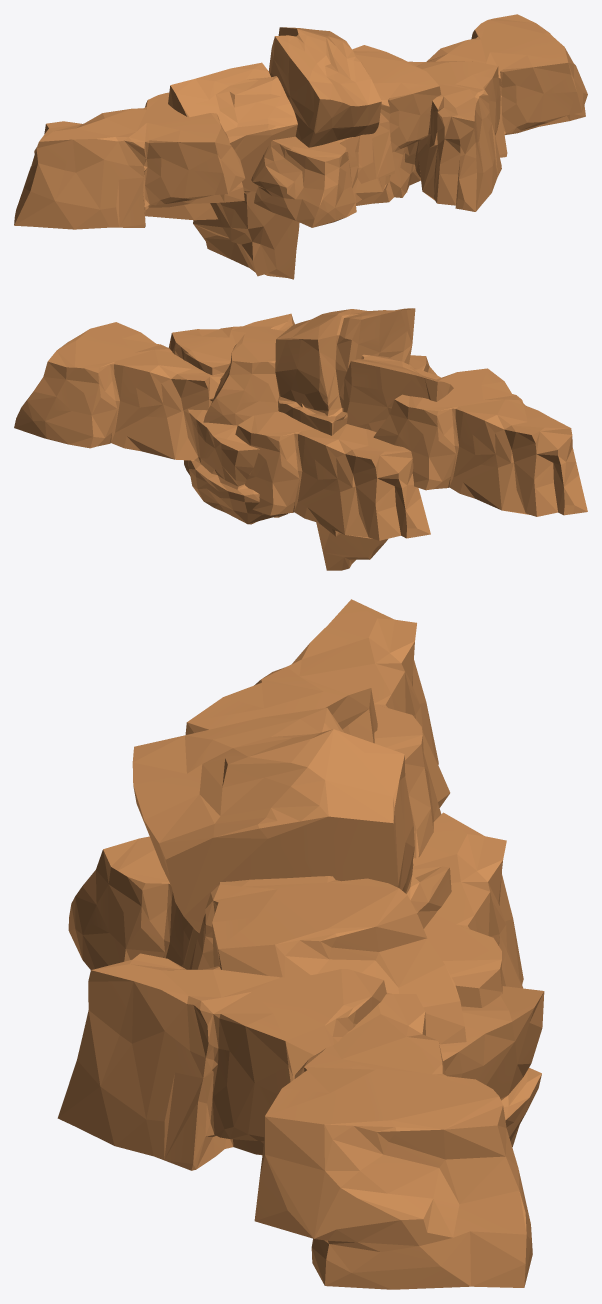
Rendered from enviornmentSet04.fbx.
3 renders of one model, top to bottom at view 1: azimuth 30°, elevation 25°; view 2: azimuth 150°, elevation 25°; view 3: azimuth 270°, elevation 25°, orthographic. The views are drawn at different scales.
Visible parts, largest first — view 1: rock1 (17), rock1 (16), rock1 (11), rock1 (9), rock1 (12), rock1 (15), rock1 (14), rock0, rock1 (13); view 2: rock1 (17), rock1 (9), rock1 (13), rock1 (12), rock1 (16), rock0, rock1 (14), rock1 (11); view 3: rock1 (9), rock1 (11), rock1 (12), rock1 (14), rock1 (17), rock1 (13), rock1 (15), rock0, rock1 (16).
Boxes of the visible parts, <box> form: rock1 (17): <box>14,92,245,229</box>; rock1 (16): <box>168,62,299,279</box>; rock1 (11): <box>404,61,502,211</box>; rock1 (9): <box>408,14,587,157</box>; rock1 (12): <box>268,27,381,147</box>; rock1 (15): <box>251,135,390,227</box>; rock1 (14): <box>352,45,441,183</box>; rock0: <box>356,146,420,205</box>; rock1 (13): <box>145,203,217,220</box>; rock1 (17): <box>373,368,587,516</box>; rock1 (9): <box>14,322,224,460</box>; rock1 (13): <box>215,411,430,540</box>; rock1 (12): <box>275,308,415,536</box>; rock1 (16): <box>316,354,453,570</box>; rock0: <box>184,409,287,524</box>; rock1 (14): <box>203,327,284,425</box>; rock1 (11): <box>168,313,294,375</box>; rock1 (9): <box>254,992,532,1289</box>; rock1 (11): <box>57,953,386,1170</box>; rock1 (12): <box>132,708,451,932</box>; rock1 (14): <box>182,876,466,1044</box>; rock1 (17): <box>185,599,450,858</box>; rock1 (13): <box>412,812,523,1007</box>; rock1 (15): <box>68,836,192,969</box>; rock0: <box>439,986,544,1146</box>; rock1 (16): <box>326,688,377,743</box>.
Bounding box in the file's own units: 30.17 × 12.48 × 11.91.
